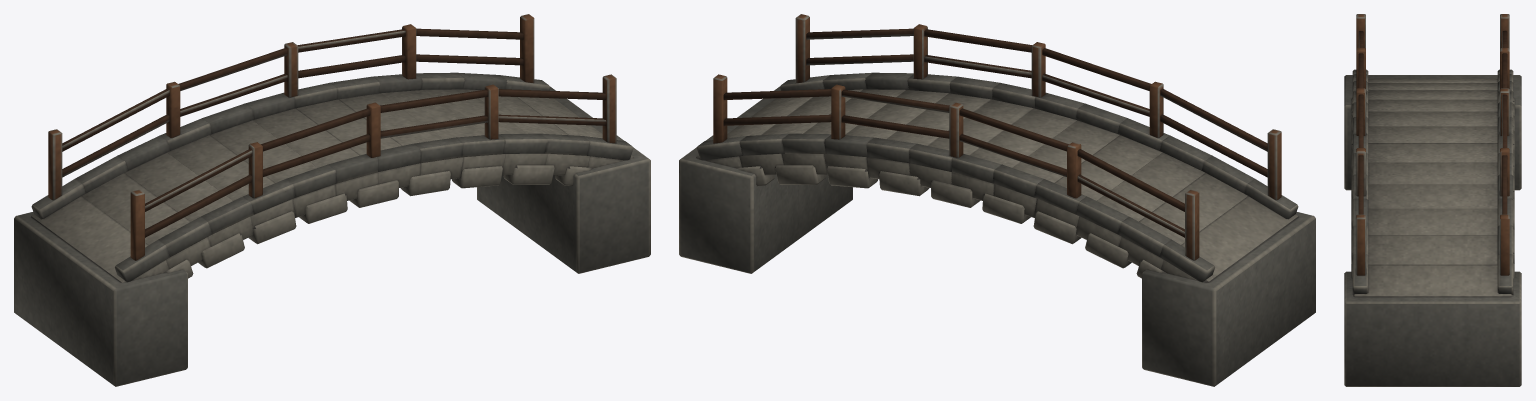
The model's file is stone_bridge.glb.
3 renders of one model, left to right at view 1: azimuth 30°, elevation 25°; view 2: azimuth 150°, elevation 25°; view 3: azimuth 270°, elevation 25°, orthographic. The views are drawn at different scales.
Visible parts, largest first — view 1: StoneBridge; view 2: StoneBridge; view 3: StoneBridge.
Part boxes in pixels (bbox=[...]): StoneBridge: bbox=[14, 14, 650, 386]; StoneBridge: bbox=[679, 14, 1315, 386]; StoneBridge: bbox=[1344, 14, 1521, 386].
Bounding box in the file's own units: 8.31 × 3.12 × 2.73.
1 material, 1 textured.
